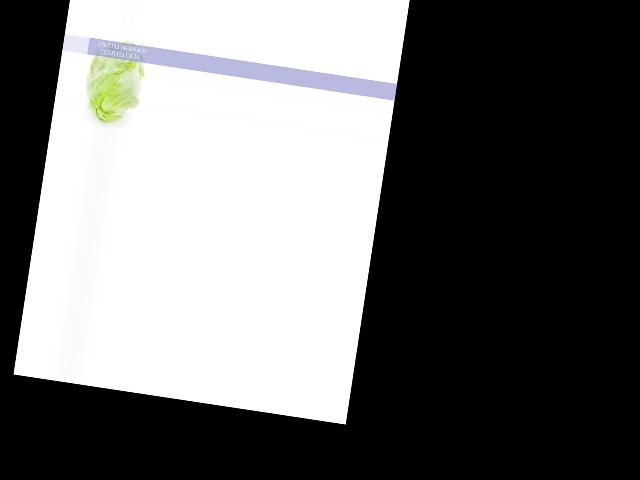lettuce: (82, 35, 149, 130)
